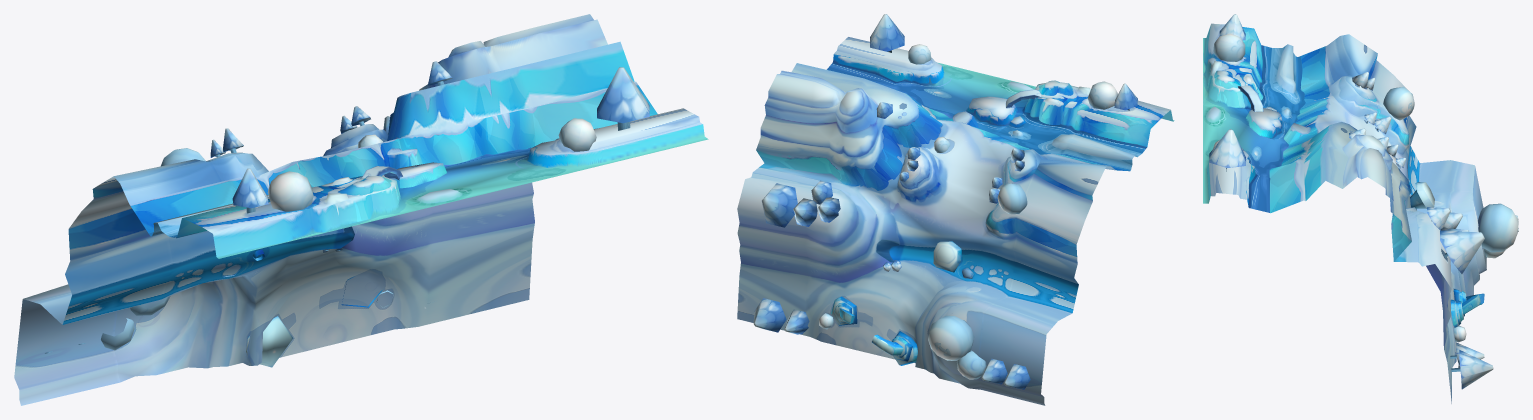
File: Chapter3Model2.FBX
The picture shows the model from 3 angles, left to right: view 1: azimuth 30°, elevation 25°; view 2: azimuth 150°, elevation 25°; view 3: azimuth 270°, elevation 25°; orthographic projection. The views are drawn at different scales.
Visible parts, largest first — view 1: Chapter3Model2Model1, Chapter3Model2Model2; view 2: Chapter3Model2Model1, Chapter3Model2Model2; view 3: Chapter3Model2Model1, Chapter3Model2Model2.
Boxes of the visible parts, box(x1,y1,x2,y2) form: Chapter3Model2Model1: box(14, 14, 708, 405); Chapter3Model2Model2: box(45, 61, 649, 367); Chapter3Model2Model1: box(737, 37, 1174, 405); Chapter3Model2Model2: box(753, 14, 1137, 389); Chapter3Model2Model1: box(1203, 23, 1486, 403); Chapter3Model2Model2: box(1209, 14, 1518, 389).
Size of the model in its own units: 970 by 781 by 706.
